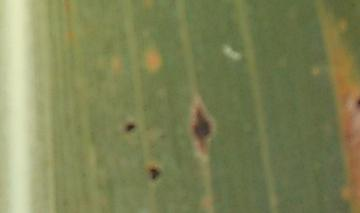tarspot: (192, 106, 212, 151), (149, 166, 160, 181), (126, 123, 136, 133), (356, 95, 360, 110)
